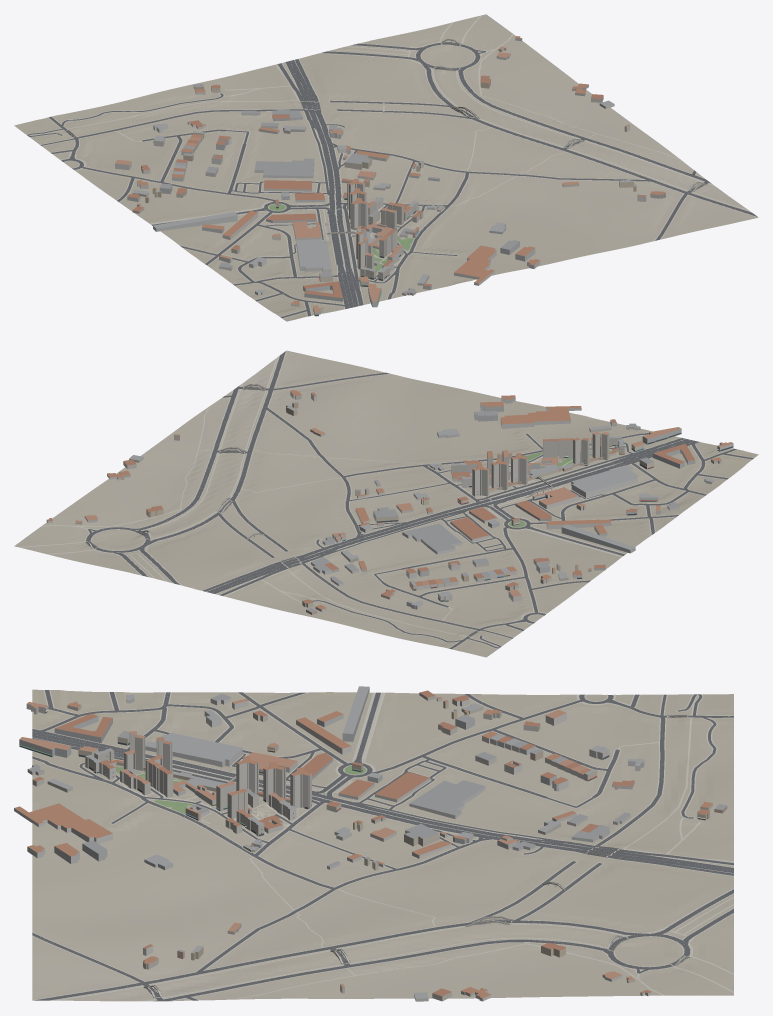
The picture shows the model from 3 angles, top to bottom: view 1: azimuth 30°, elevation 25°; view 2: azimuth 150°, elevation 25°; view 3: azimuth 270°, elevation 25°; orthographic projection. The views are drawn at different scales.
Visible parts, largest first — view 1: Ground, Road, Sidewalk, Roofs, Walls, Struct; view 2: Ground, Road, Sidewalk, Walls, Roofs, Struct, Detail; view 3: Ground, Road, Sidewalk, Walls, Roofs, Struct, Deck.
Part boxes in pixels (x1,y1,x2,y2): Ground: (14,14,757,321); Road: (27,43,757,318); Sidewalk: (26,15,758,318); Roofs: (115,36,665,312); Walls: (115,37,665,316); Struct: (65,38,707,236); Ground: (14,350,758,657); Road: (86,351,753,649); Sidewalk: (18,350,754,649); Walls: (46,391,733,614); Roofs: (47,390,733,612); Struct: (85,384,553,636); Detail: (342,433,733,601); Ground: (32,689,733,1001); Road: (32,690,733,1001); Sidewalk: (32,690,733,1001); Walls: (14,687,727,1001); Roofs: (14,686,726,998); Struct: (143,715,690,997); Deck: (147,715,686,998).
Size of the model in its own units: 1018 by 69.8 by 1062.
